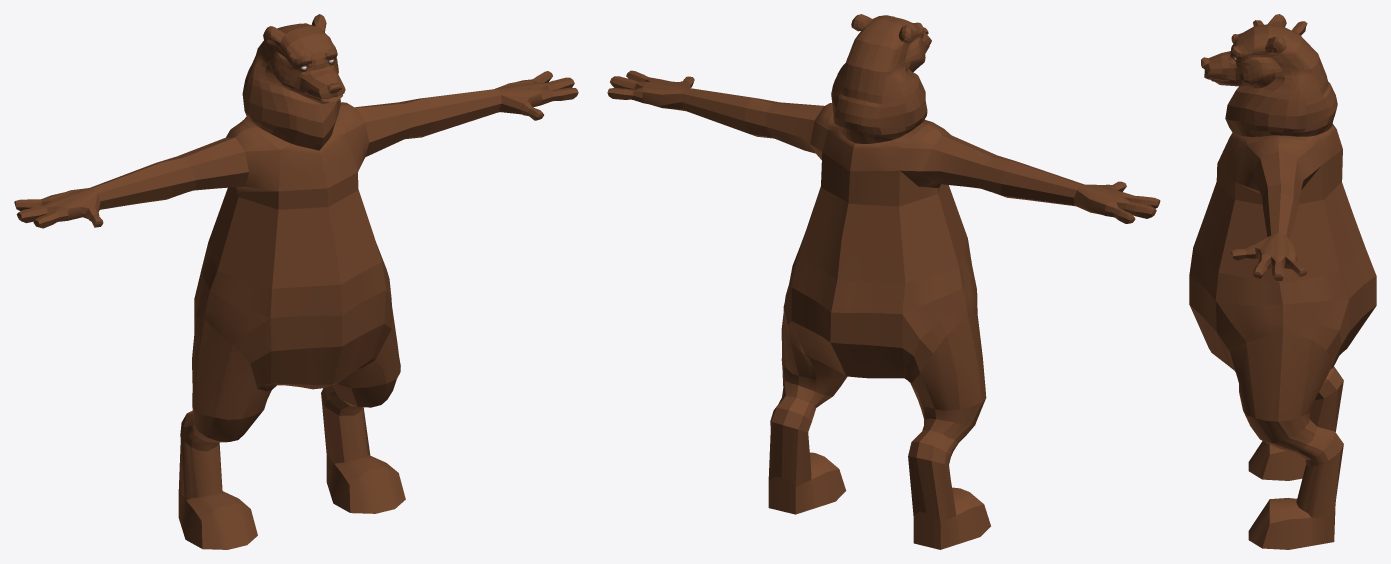
The model's file is BadBear.fbx.
3 renders of one model, left to right at view 1: azimuth 30°, elevation 25°; view 2: azimuth 150°, elevation 25°; view 3: azimuth 270°, elevation 25°, orthographic. The views are drawn at different scales.
Visible parts, largest first — view 1: pCube5; view 2: pCube5; view 3: pCube5.
Part boxes in pixels (x1,y1,x2,y2): pCube5: [14, 14, 578, 549]; pCube5: [607, 14, 1160, 549]; pCube5: [1189, 14, 1376, 549].
Size of the model in its own units: 5.84 by 5.02 by 1.79.
